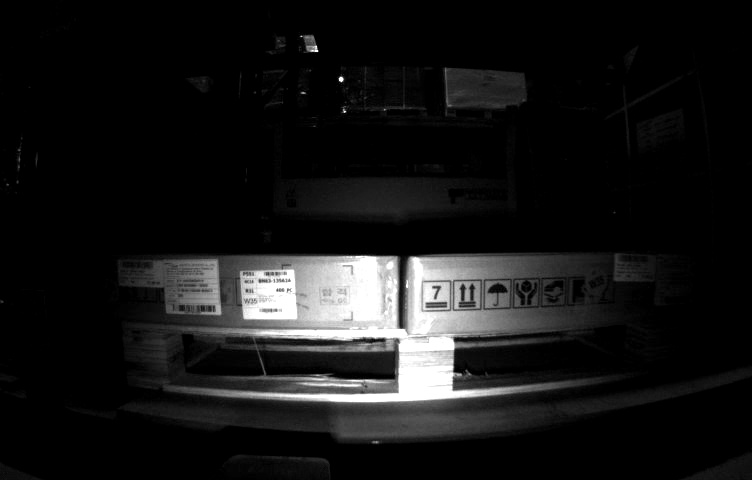True Barcode: (239, 269, 299, 318)
